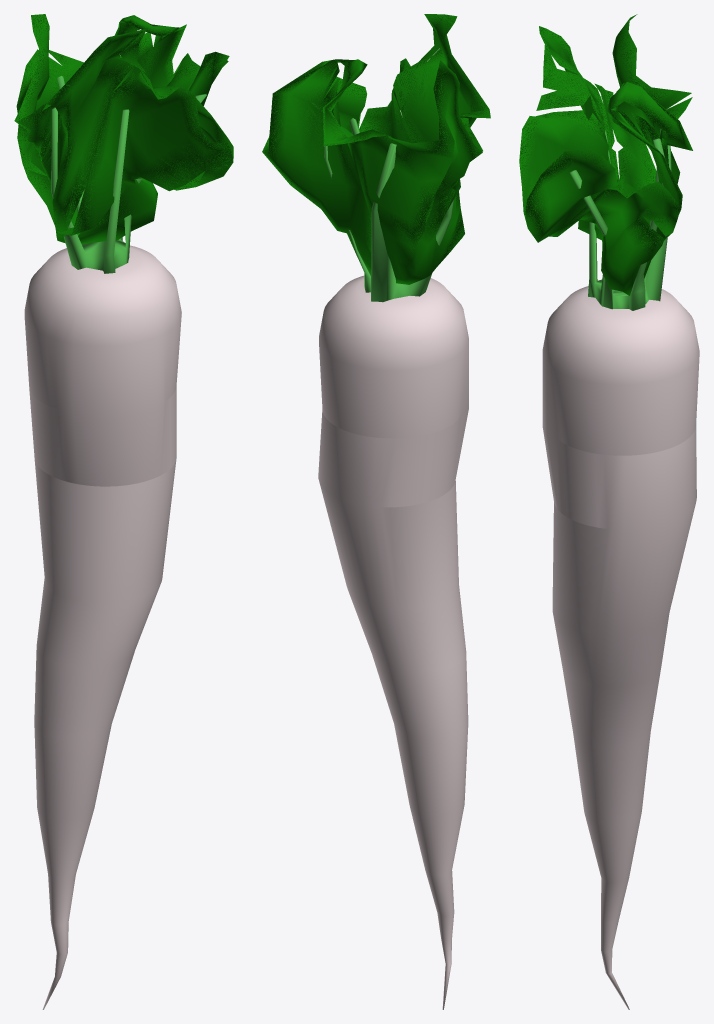
The model's file is radish.fbx.
3 renders of one model, left to right at view 1: azimuth 30°, elevation 25°; view 2: azimuth 150°, elevation 25°; view 3: azimuth 270°, elevation 25°, orthographic. The views are drawn at different scales.
Visible parts, largest first — view 1: Cylinder, Plane, Cylinder.001; view 2: Cylinder, Plane, Cylinder.001; view 3: Cylinder, Plane, Cylinder.001.
Boxes of the visible parts, x1,y1,x2,y2 form: Cylinder: (24,245,181,1009); Plane: (14,14,233,244); Cylinder.001: (51,76,206,273); Cylinder: (318,275,468,1009); Plane: (262,14,490,284); Cylinder.001: (324,118,453,302); Cylinder: (542,286,699,1009); Plane: (519,14,692,295); Cylinder.001: (569,96,671,310).
Bounding box in the file's own units: 0.317 × 1.39 × 0.2279.
